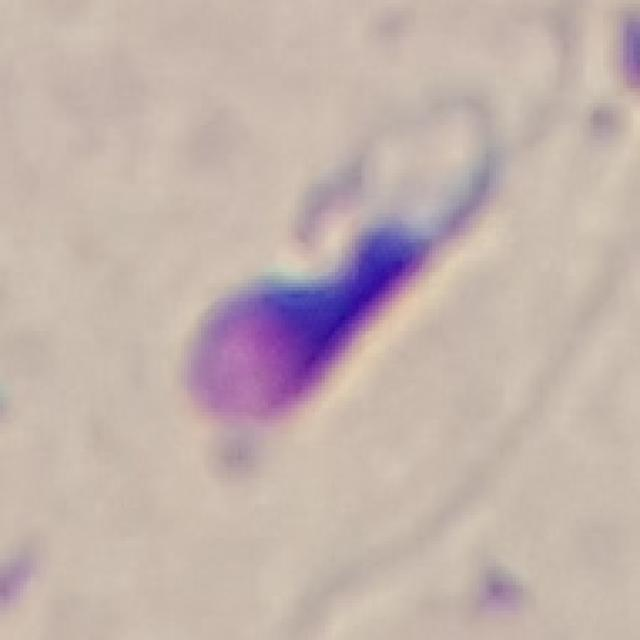abnormal sperm: (165, 44, 499, 450)
